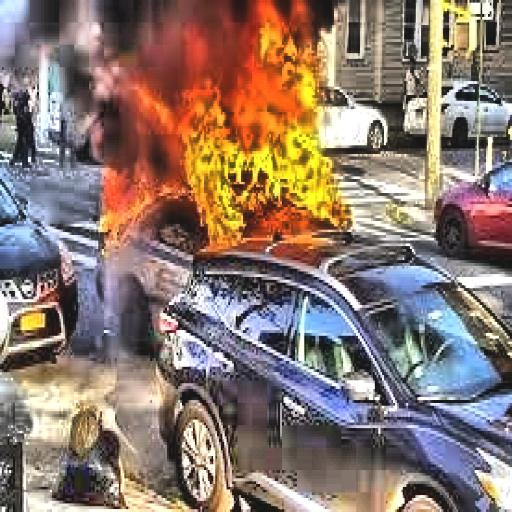fire: (94, 28, 360, 288)
